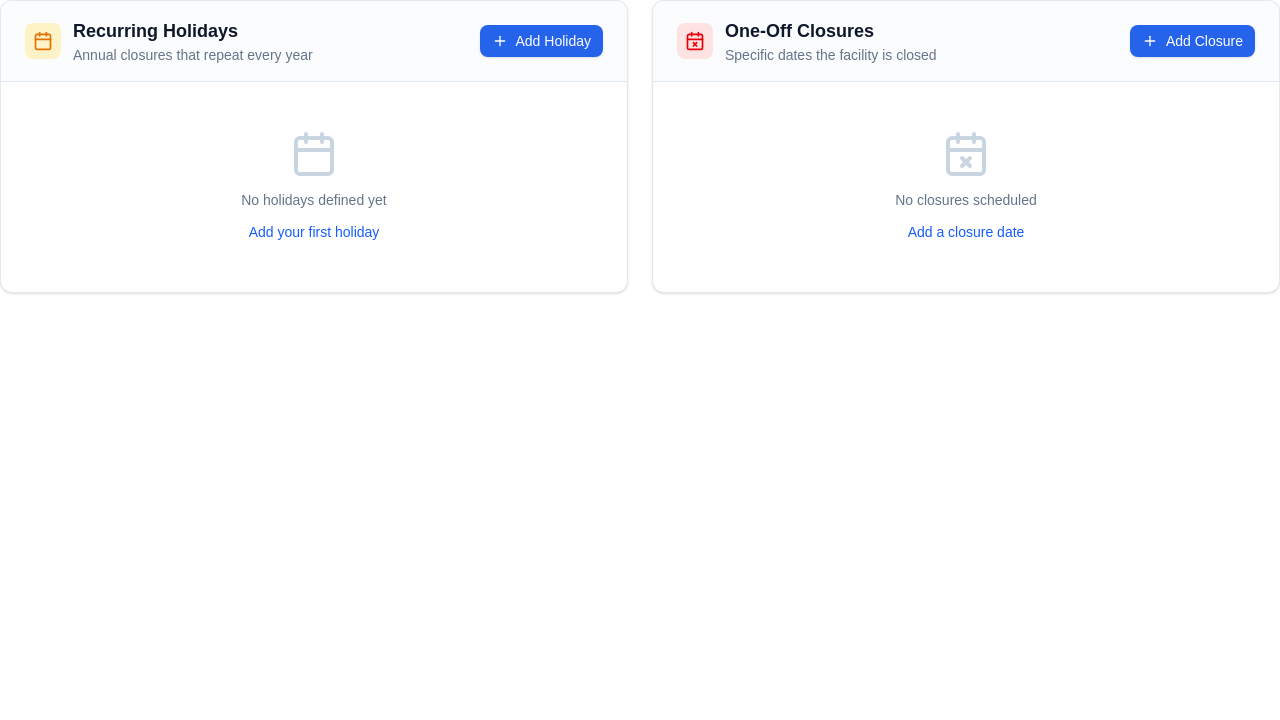
Test case: HolidaysTab › holiday dialog › shows close time picker when partial toggle is enabled
This screenshot has width=1280, height=720.
Click the button "Add Holiday" at (541, 41), box x1=480 y1=25 x2=603 y2=57
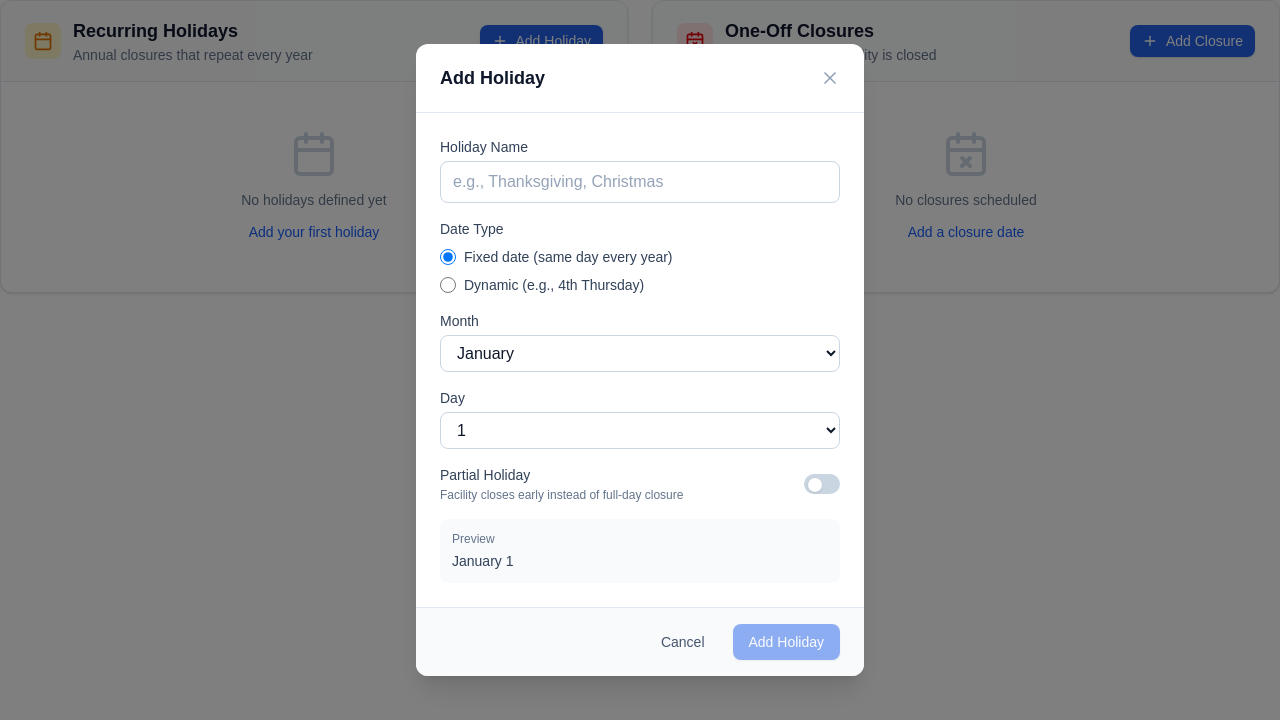
Result: the text "Partial Holiday" is shown at x1=440 y1=467 x2=530 y2=483
// Toggle partial on
Click the switch named "Toggle partial holiday" at (822, 484), box x1=804 y1=474 x2=840 y2=494
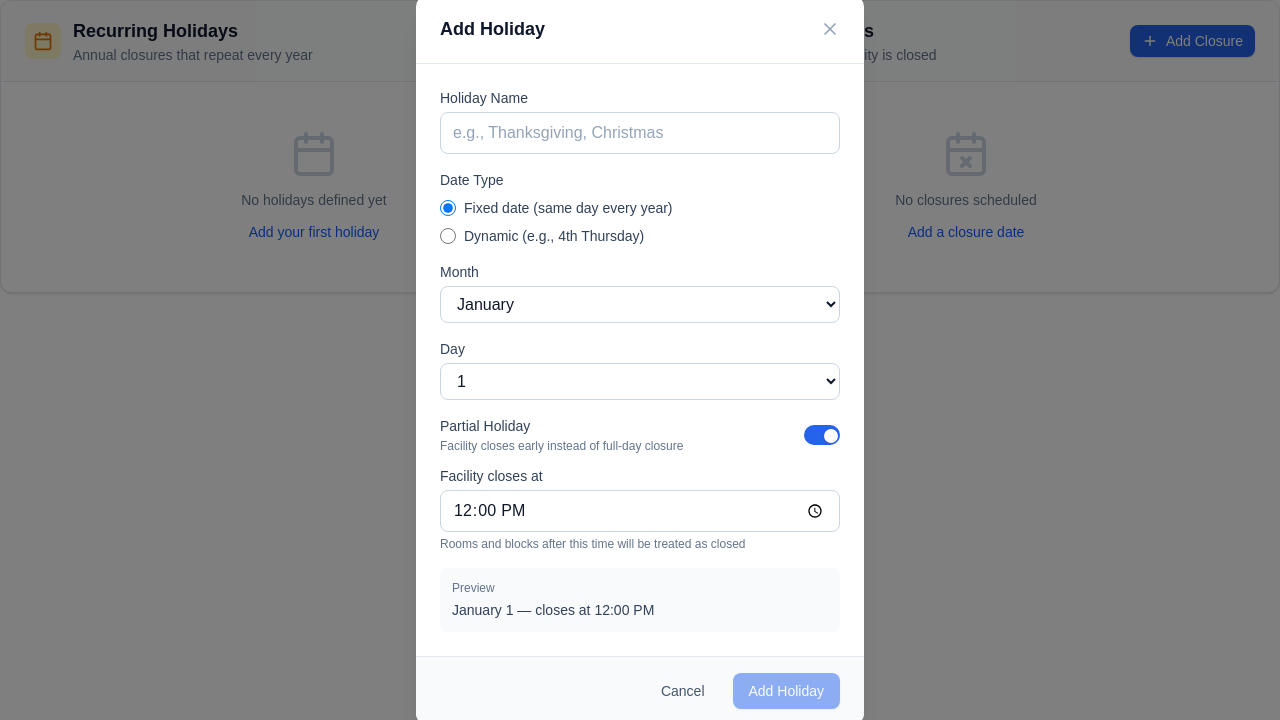
Result: the text "Facility closes at" is shown at x1=440 y1=468 x2=543 y2=484
